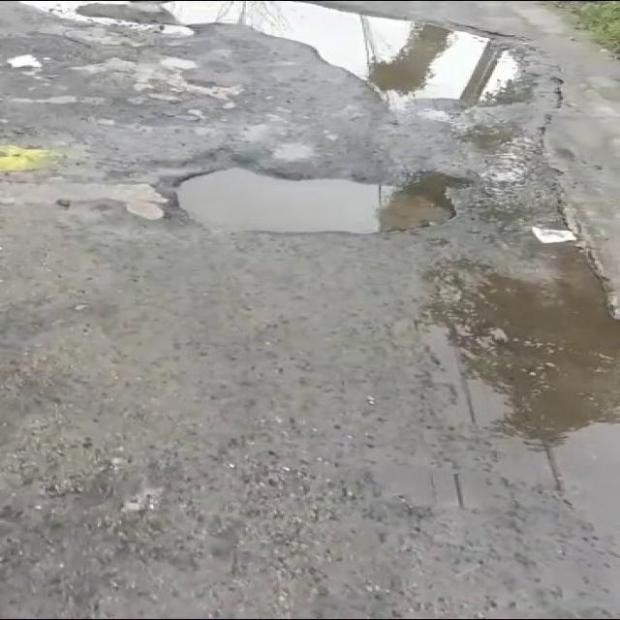lubang: (25, 2, 518, 118), (431, 231, 619, 442), (175, 168, 476, 233)
